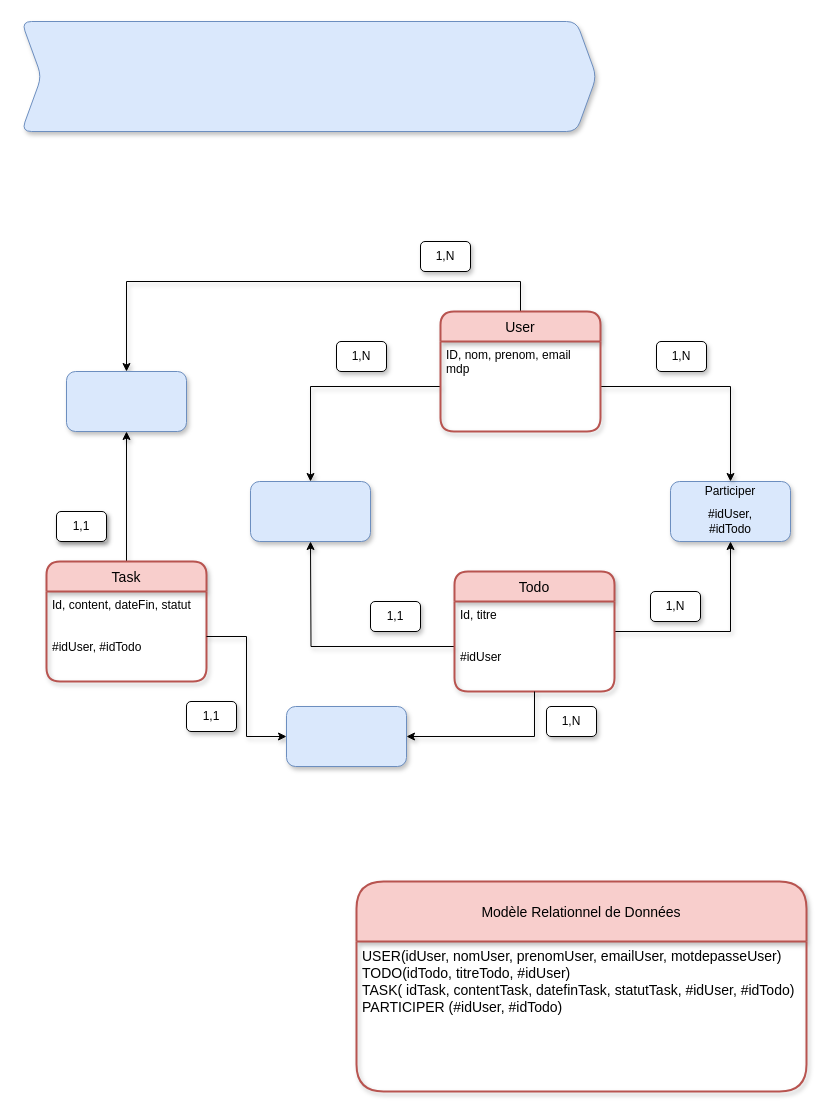
The diagram is 831 pixels wide and 1117 high, and some of its shapes have lost their labels. The shapes that lost their labels are listed below. From the top down, each one's centre as x and y in pixels, then its label:
pixel 309 77: Shéma relationnel pour le projet Todo
pixel 127 402: Créer
pixel 311 512: Diposer
pixel 347 738: Contenir
